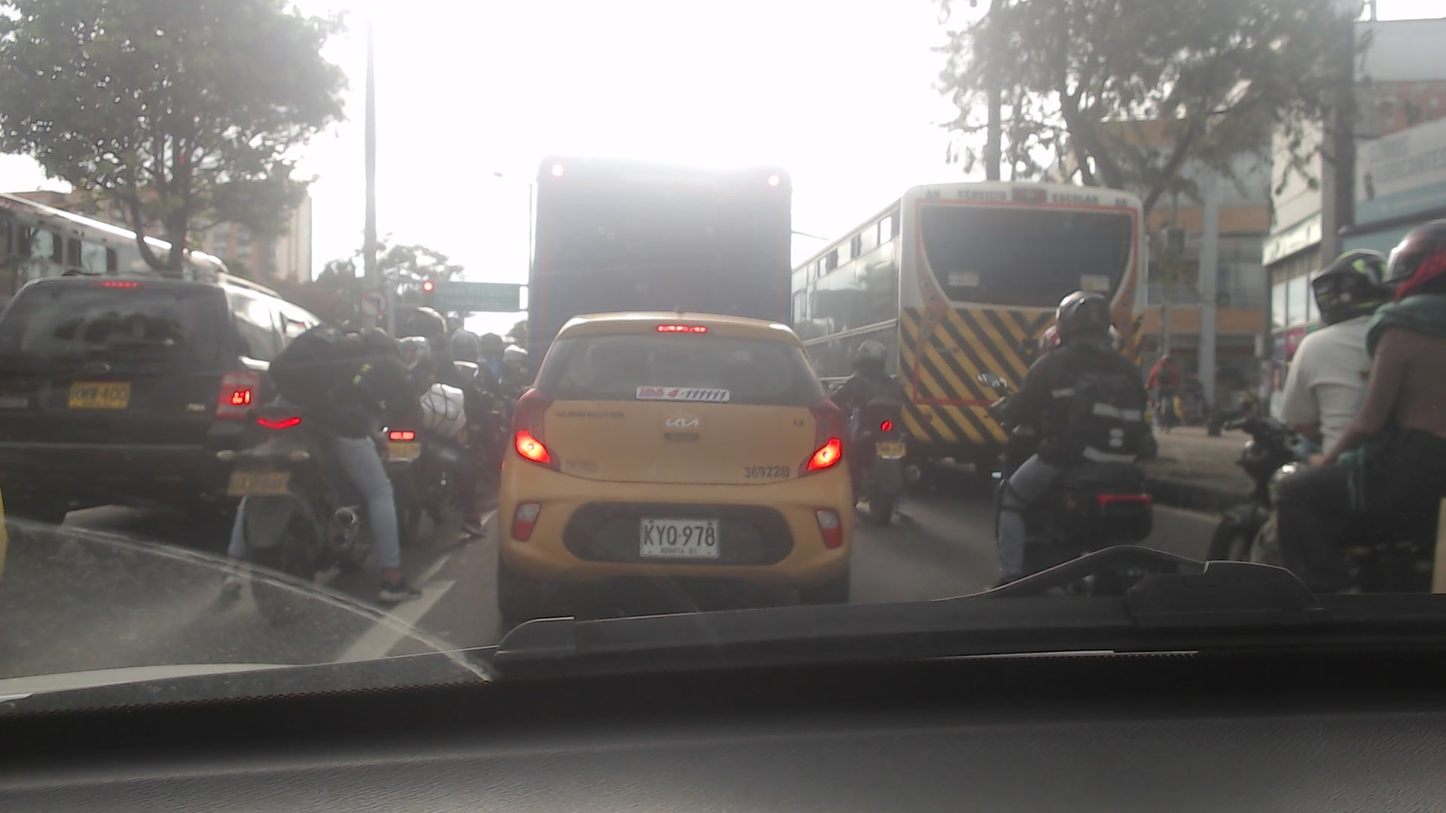bus: (775, 180, 1157, 464)
car: (494, 319, 854, 612), (0, 271, 324, 573)
motorcycle: (230, 437, 393, 625), (984, 432, 1150, 606), (360, 426, 458, 529), (837, 399, 908, 523)
person: (1275, 244, 1401, 489), (1017, 286, 1158, 500), (246, 323, 438, 461), (1375, 219, 1444, 547), (370, 305, 474, 441), (833, 337, 904, 443)
truck: (518, 149, 789, 357)
